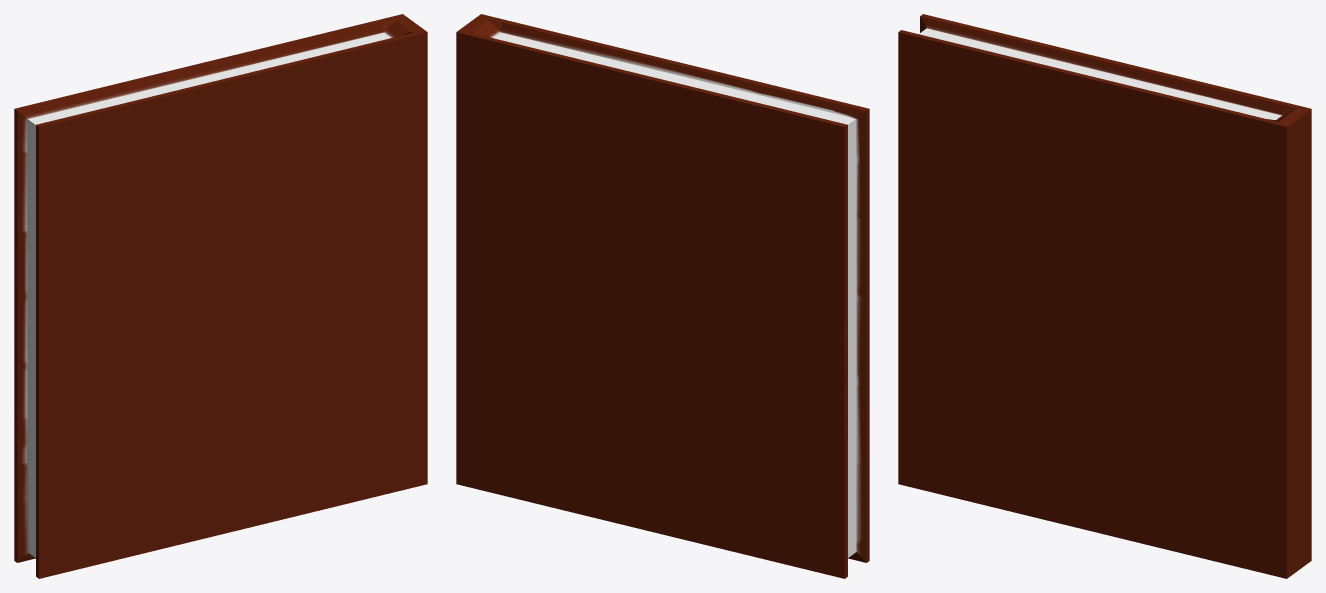
File: book.glb
3 views of the same model, side by side, from view 1: azimuth 30°, elevation 25°; view 2: azimuth 150°, elevation 25°; view 3: azimuth 330°, elevation 25° (orthographic).
Parts seen in each view (by area): view 1: Cube.001; view 2: Cube.001; view 3: Cube.001.
Part boxes in pixels (bbox=[...]): Cube.001: bbox=[14, 14, 427, 578]; Cube.001: bbox=[456, 14, 869, 578]; Cube.001: bbox=[898, 14, 1311, 578].
Size of the model in its own units: 0.18 by 0.2 by 0.02.
1 material, 1 textured.
